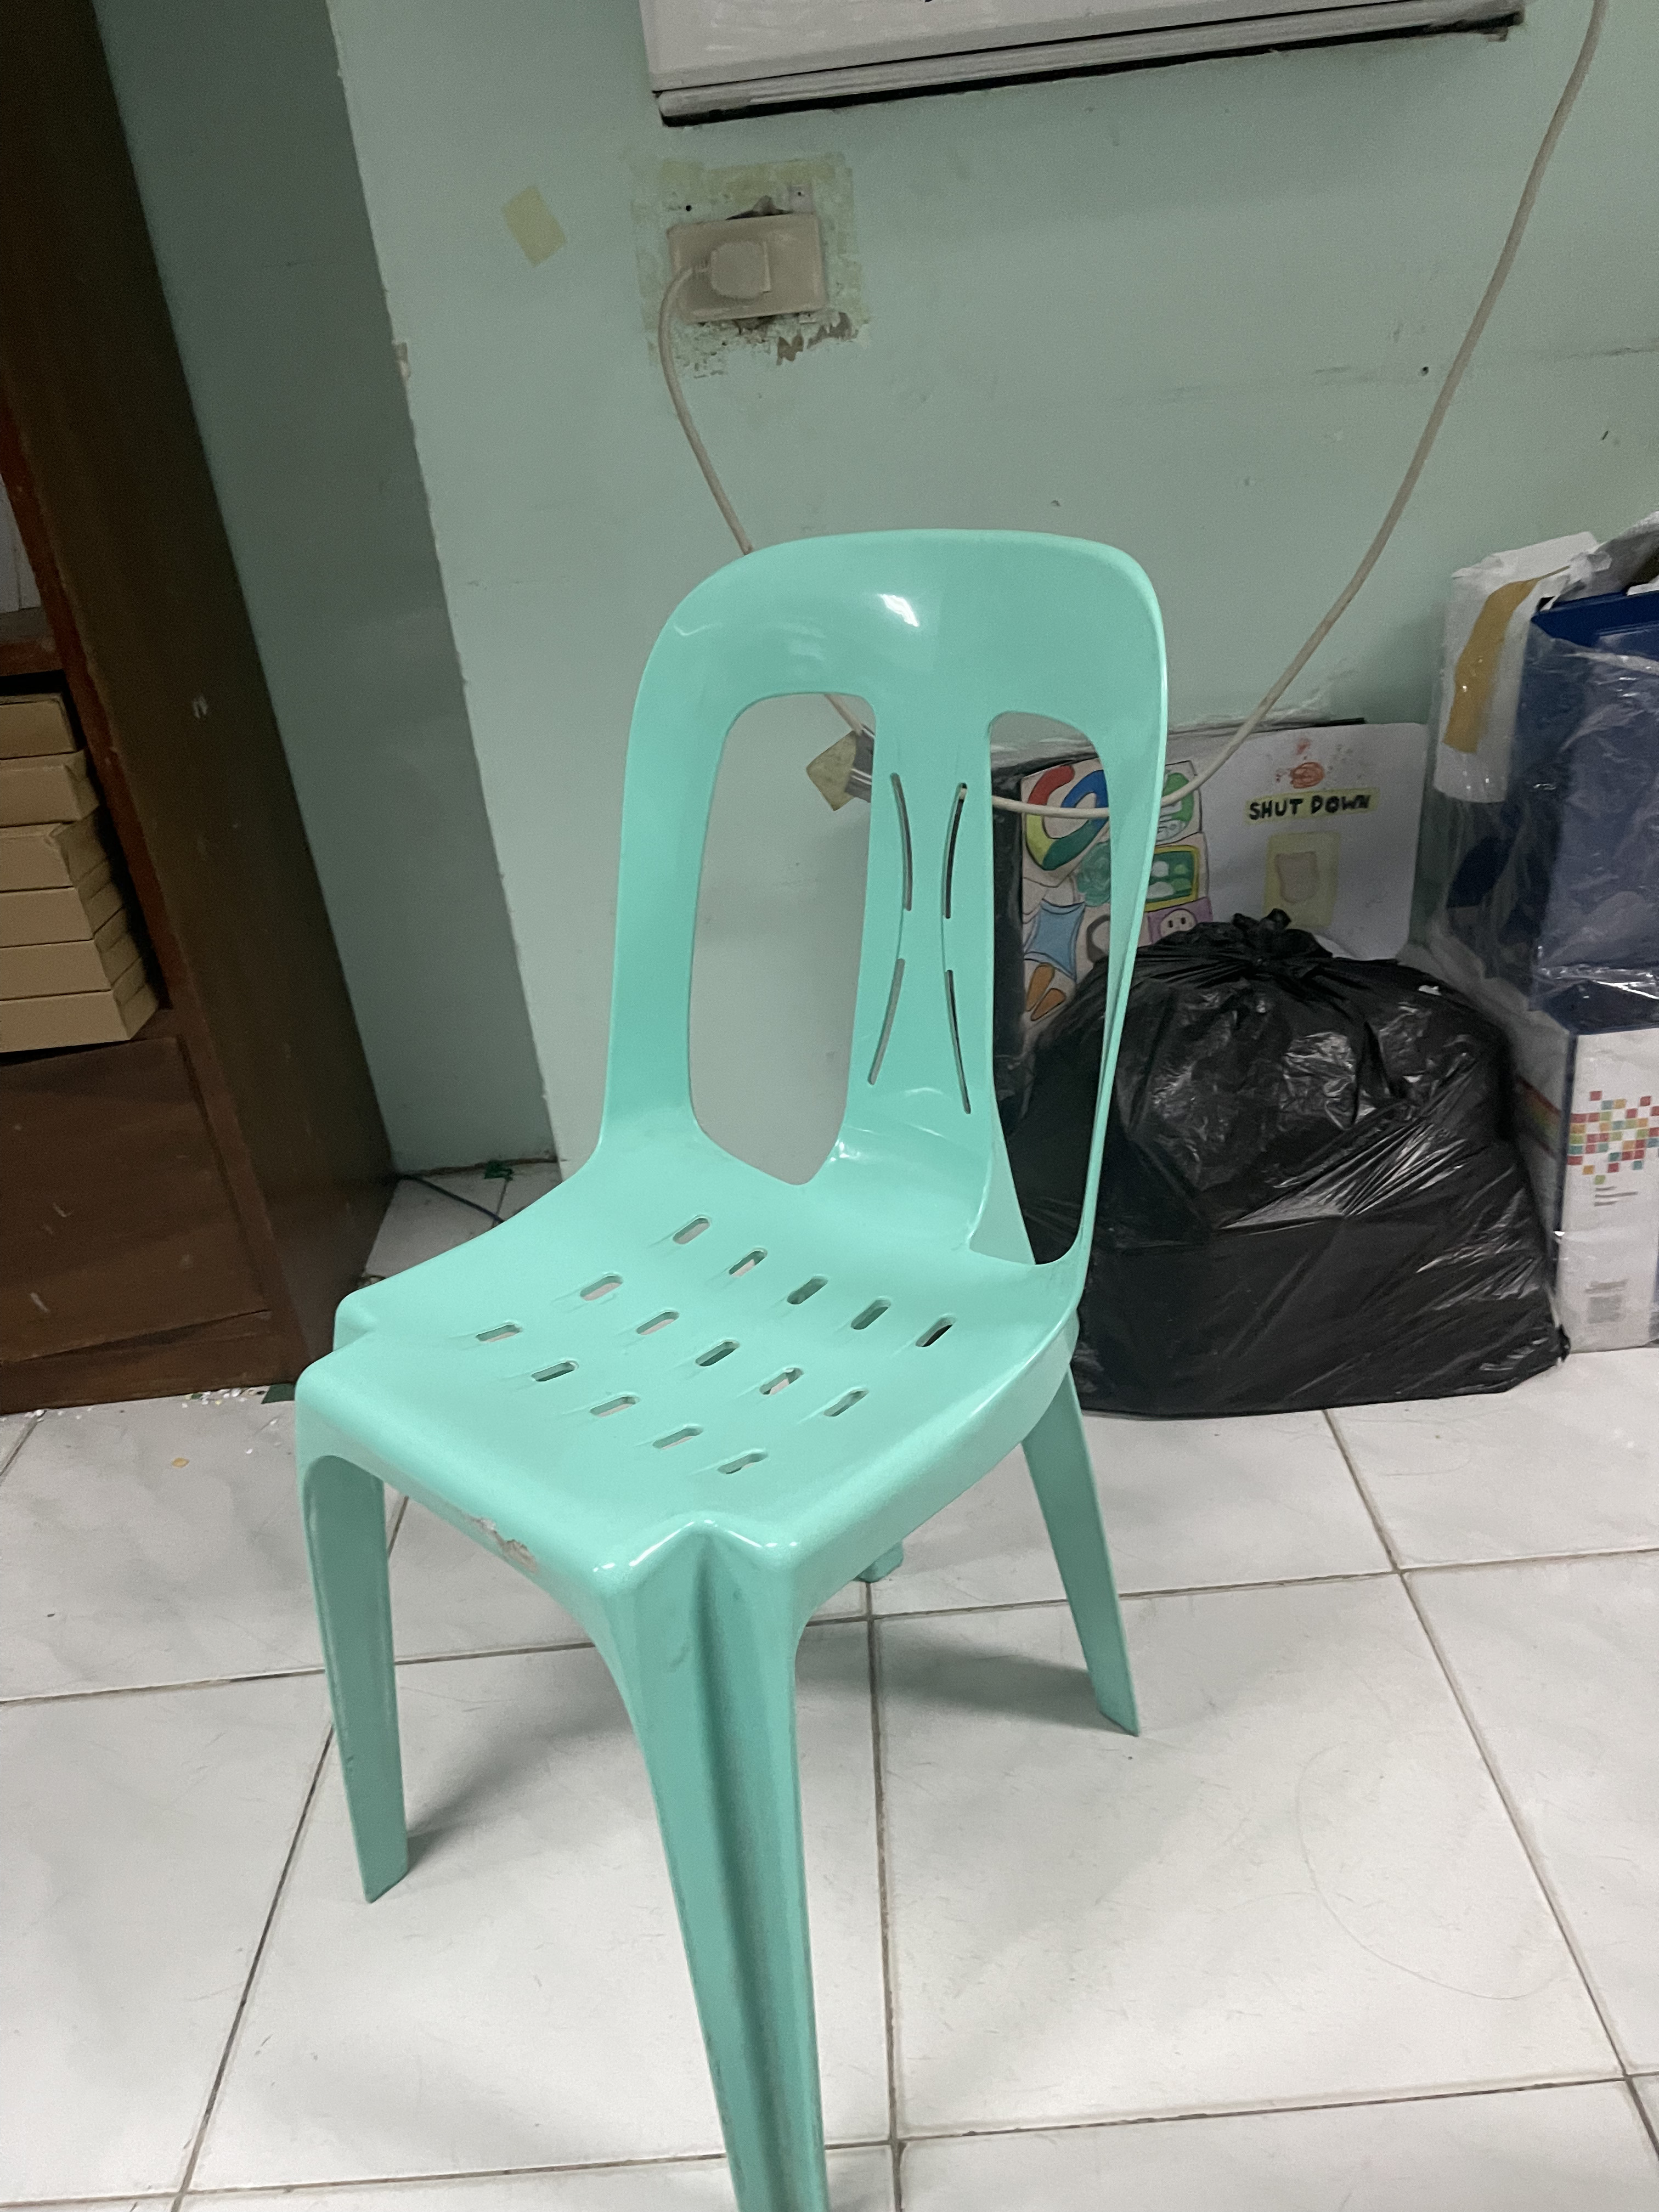chair2: (281, 523, 1187, 2212)
